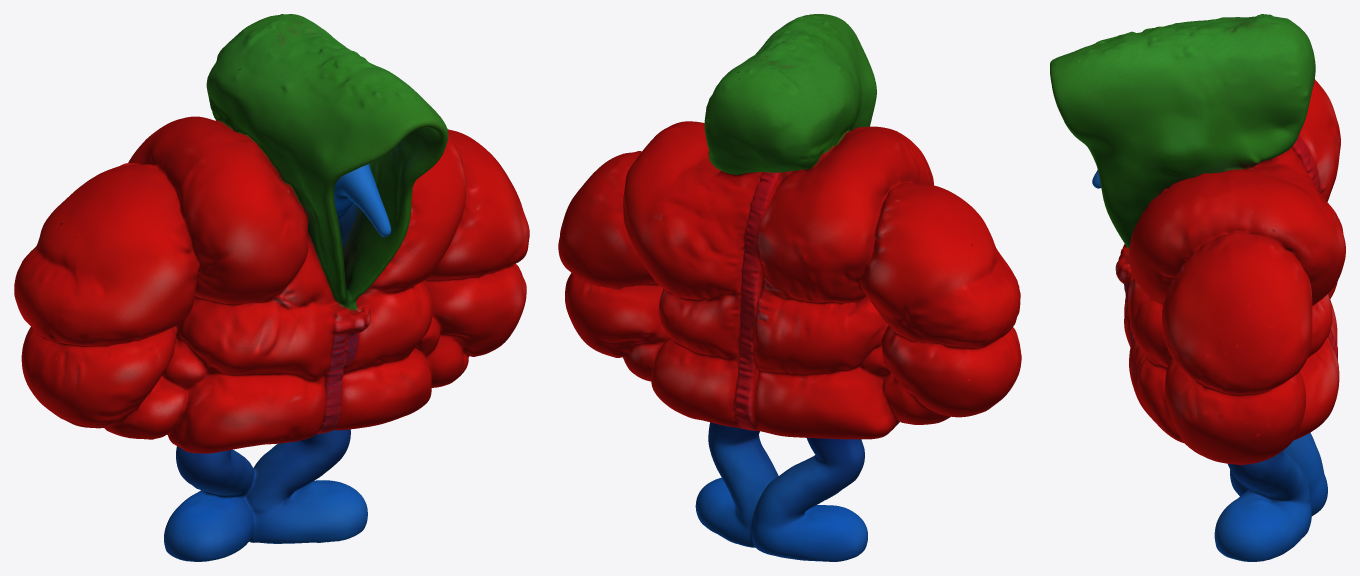
Rendered from Copilot3D-469cea15-e966-4e9b-809a-8af82e455ed2.glb.
3 renders of one model, left to right at view 1: azimuth 30°, elevation 25°; view 2: azimuth 150°, elevation 25°; view 3: azimuth 270°, elevation 25°, orthographic. The views are drawn at different scales.
Parts seen in each view (by area): view 1: world; view 2: world; view 3: world.
Boxes of the visible parts, bbox=[...] form: world: bbox=[14, 14, 529, 561]; world: bbox=[558, 14, 1021, 561]; world: bbox=[1050, 14, 1345, 561].
Size of the model in its own units: 0.9936 by 1 by 0.5256.
1 material, 1 textured.
